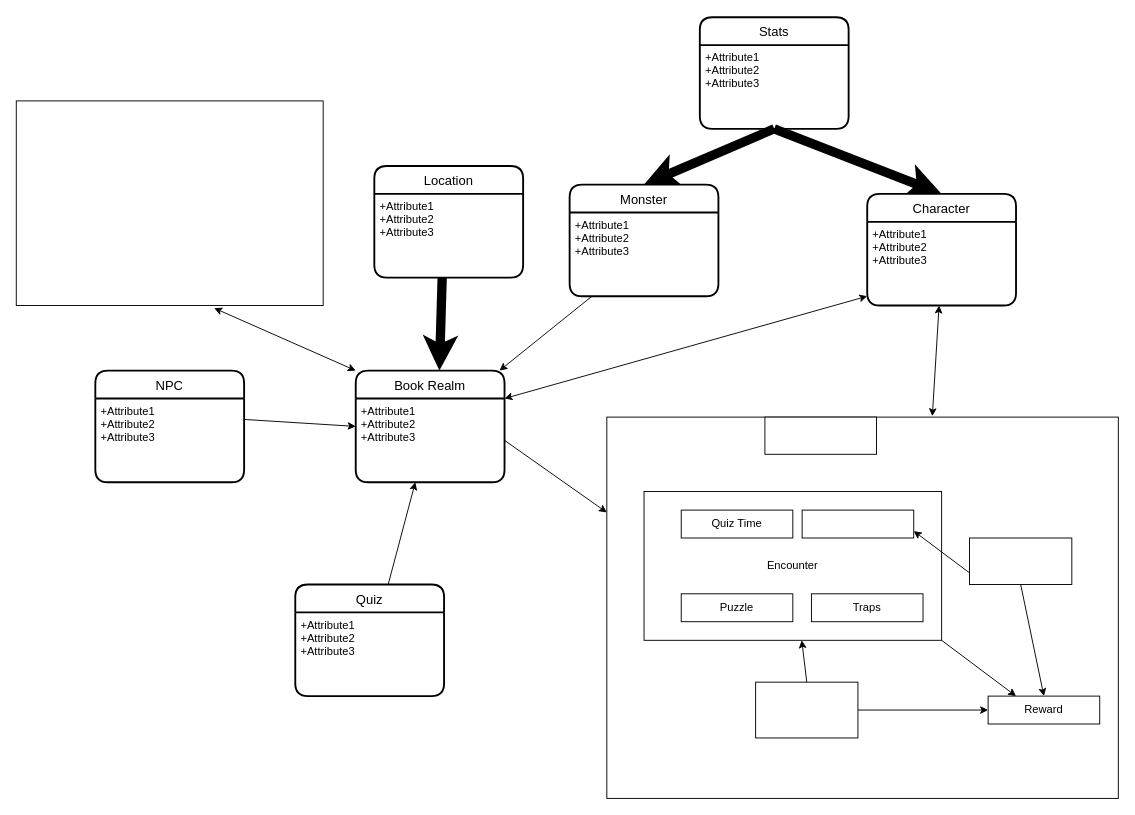
The diagram is 1135 pixels wide and 815 high, and some of its shapes have lost their labels. The centre of each missing label's shape, as x and y in pixels:
Camp: point 1020,561
Combat: point 857,523
Explore: point 820,435
MAIN: point 169,203
Movement: point 806,709
